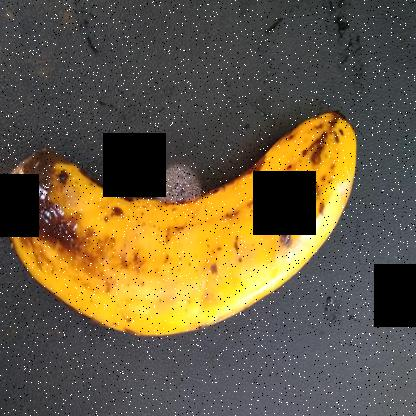overripe: (102, 103, 368, 360)
rotten: (0, 119, 142, 331)
